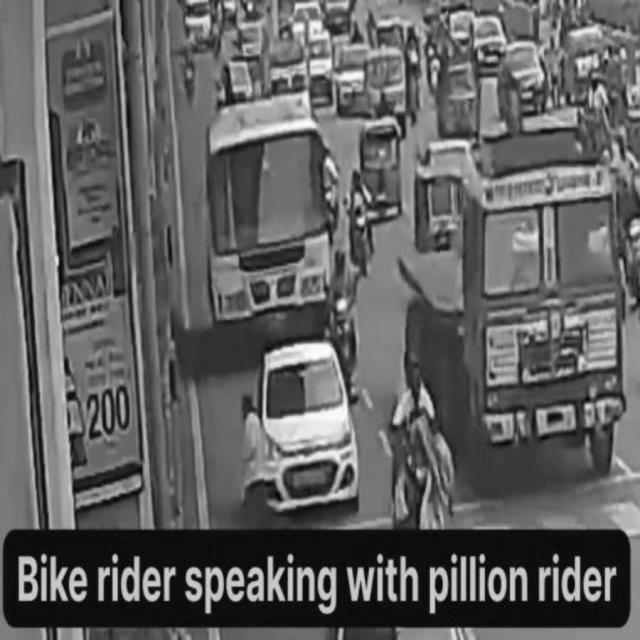accident: (388, 365, 452, 542)
vehicle: (465, 170, 623, 458), (211, 117, 335, 332), (253, 351, 365, 518), (333, 244, 361, 382), (344, 164, 372, 274)
